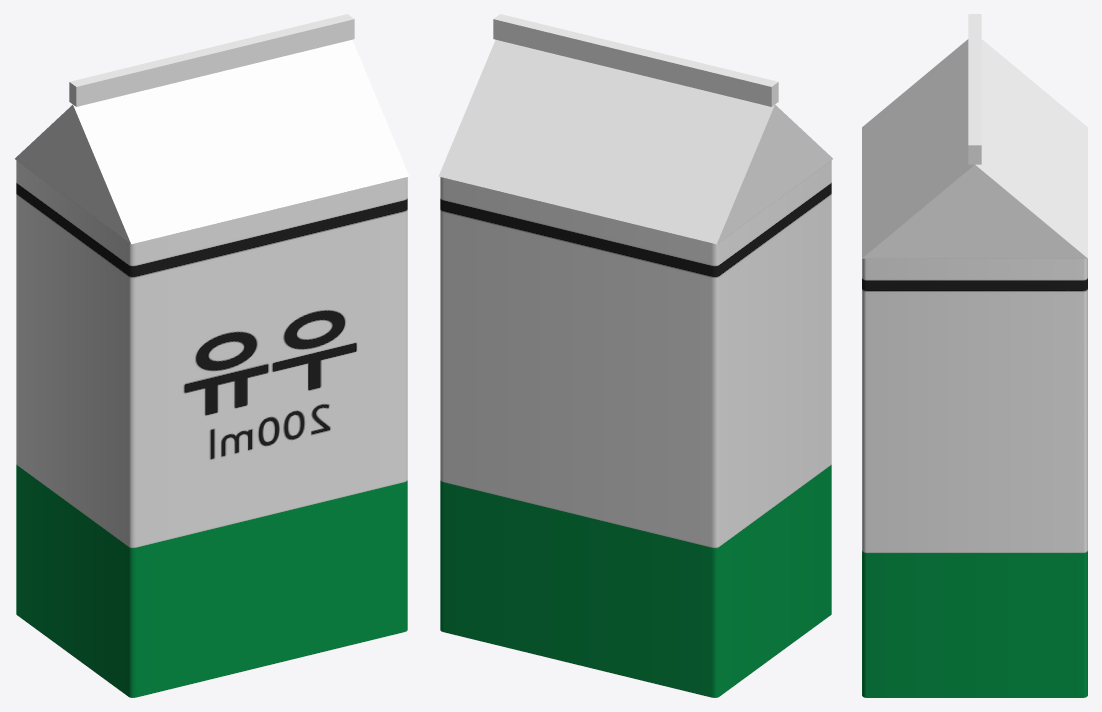
File: item-milk_200.glb
The picture shows the model from 3 angles, left to right: view 1: azimuth 30°, elevation 25°; view 2: azimuth 150°, elevation 25°; view 3: azimuth 270°, elevation 25°; orthographic projection. The views are drawn at different scales.
Parts seen in each view (by area): view 1: body, roof, fin; view 2: body, roof, fin; view 3: body, roof, fin.
Boxes of the visible parts, x1,y1,x2,y2 form: body: (16, 160, 407, 697); roof: (15, 40, 409, 244); fin: (69, 14, 354, 106); body: (440, 160, 831, 697); roof: (438, 40, 832, 244); fin: (493, 14, 778, 106); body: (862, 258, 1087, 697); roof: (862, 39, 1087, 258); fin: (968, 14, 981, 164).
Size of the model in its own units: 0.055 by 0.108 by 0.04.
Materials: 3 (1 with a texture image).
